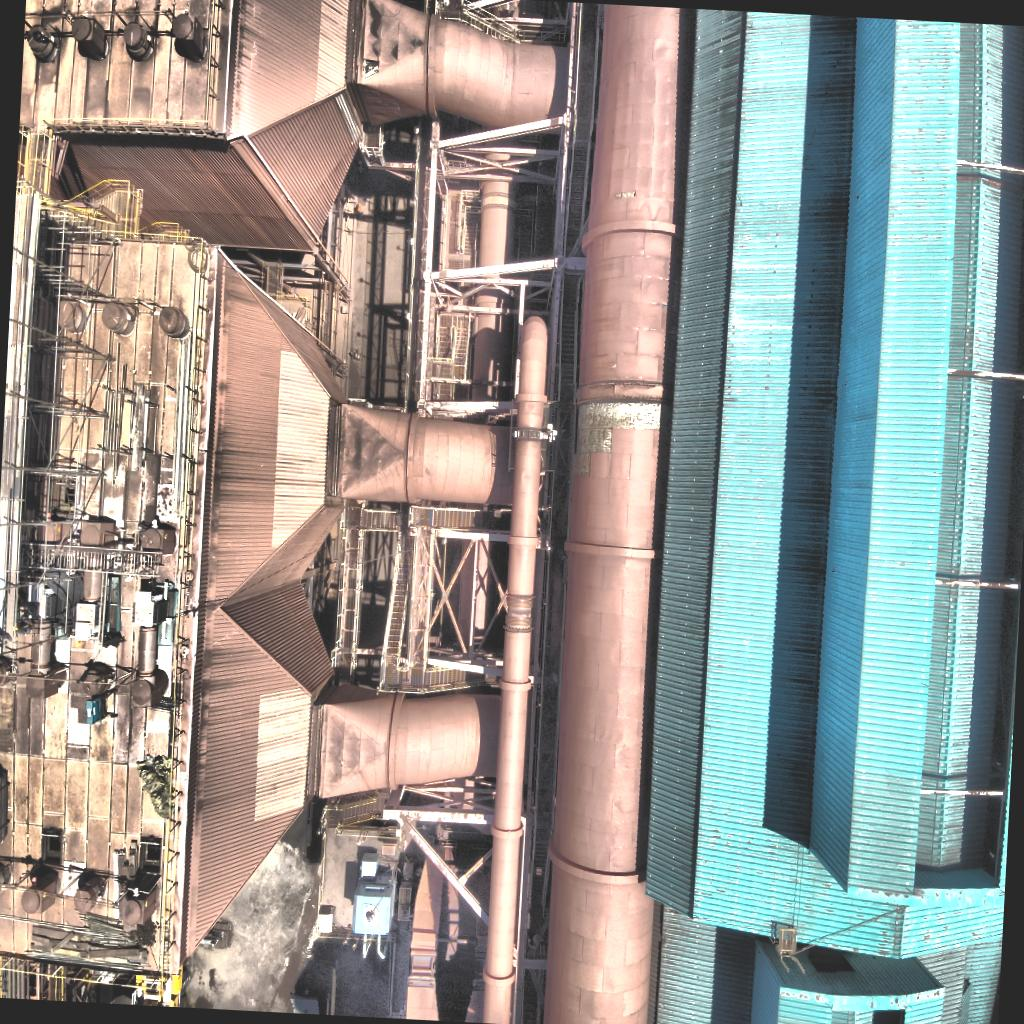Failures: (570, 393, 668, 482), (360, 56, 380, 84), (614, 190, 638, 202)
